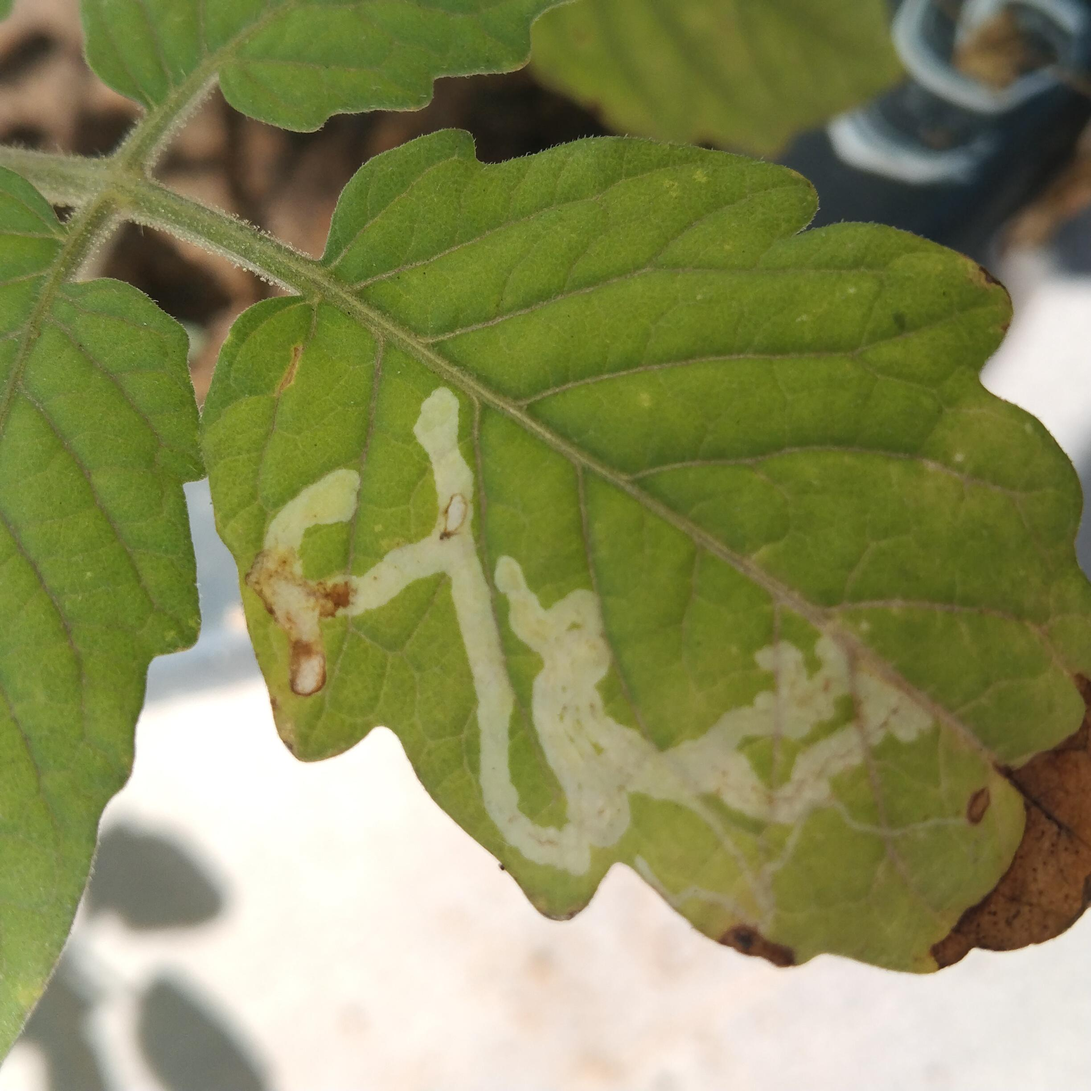Leaf_Miner: (114, 192, 965, 1091)
